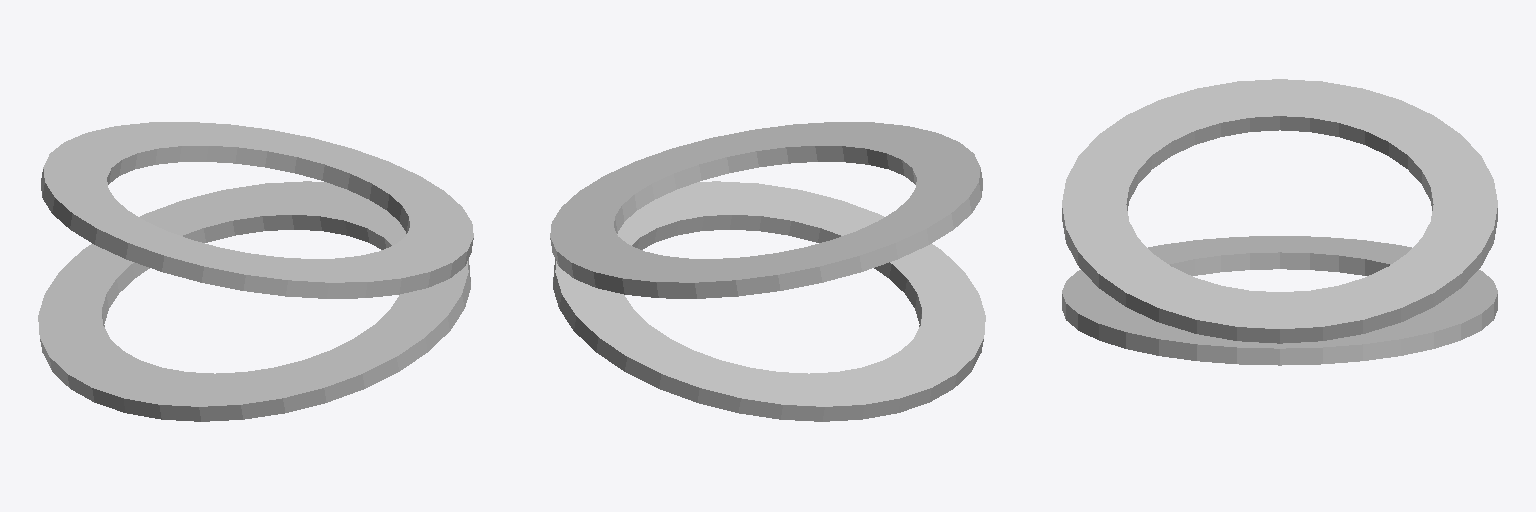
The model's file is diamond-circle.obj.
The picture shows the model from 3 angles: view 1: azimuth 30°, elevation 25°; view 2: azimuth 150°, elevation 25°; view 3: azimuth 270°, elevation 25°; orthographic projection.
Visible parts, largest first — view 1: Circle.001; view 2: Circle.001; view 3: Circle.001.
Boxes of the visible parts, <box> form: Circle.001: <box>38,122,473,421</box>; Circle.001: <box>550,122,985,421</box>; Circle.001: <box>1062,79,1497,365</box>.
Bounding box in the file's own units: 0.7479 × 0.331 × 0.7489.